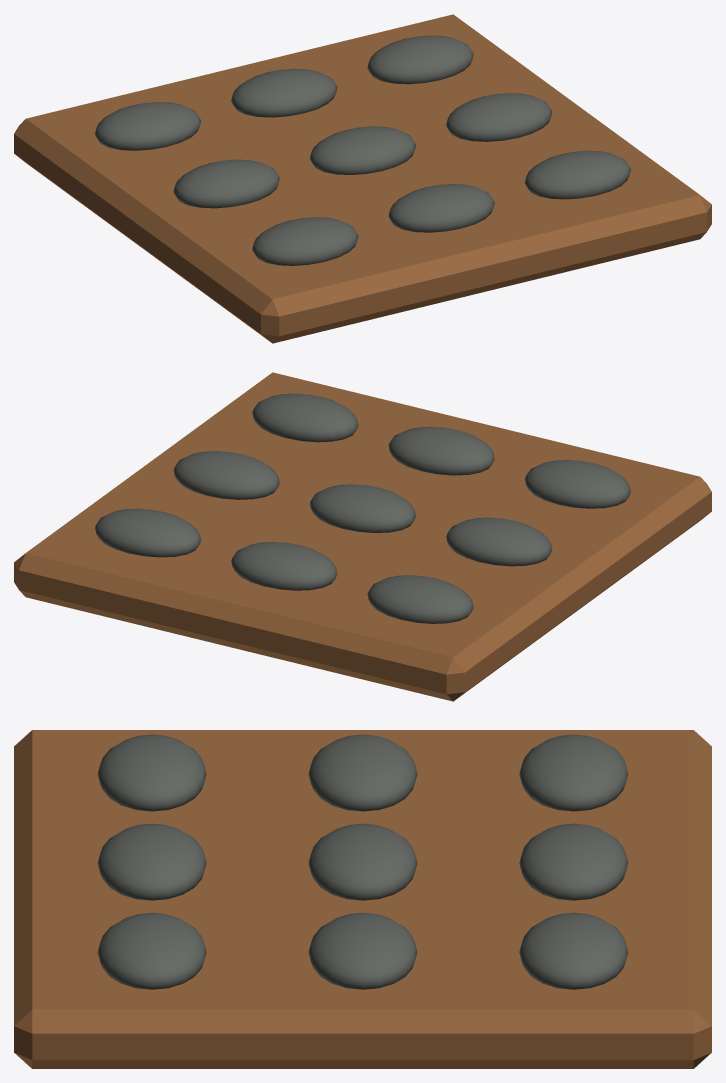
The model's file is terrain-dirt.glb.
3 renders of one model, top to bottom at view 1: azimuth 30°, elevation 25°; view 2: azimuth 150°, elevation 25°; view 3: azimuth 270°, elevation 25°, orthographic. The views are drawn at different scales.
Parts seen in each view (by area): view 1: terrain-dirt; view 2: terrain-dirt; view 3: terrain-dirt.
Boxes of the visible parts, x1,y1,x2,y2 form: terrain-dirt: (14,14,711,343); terrain-dirt: (14,372,711,701); terrain-dirt: (14,730,711,1068).
Bounding box in the file's own units: 0.96 × 0.135 × 0.96.
